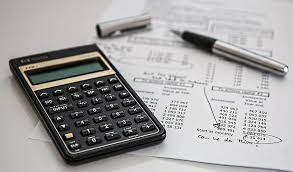Calculator: (9, 42, 169, 168)
